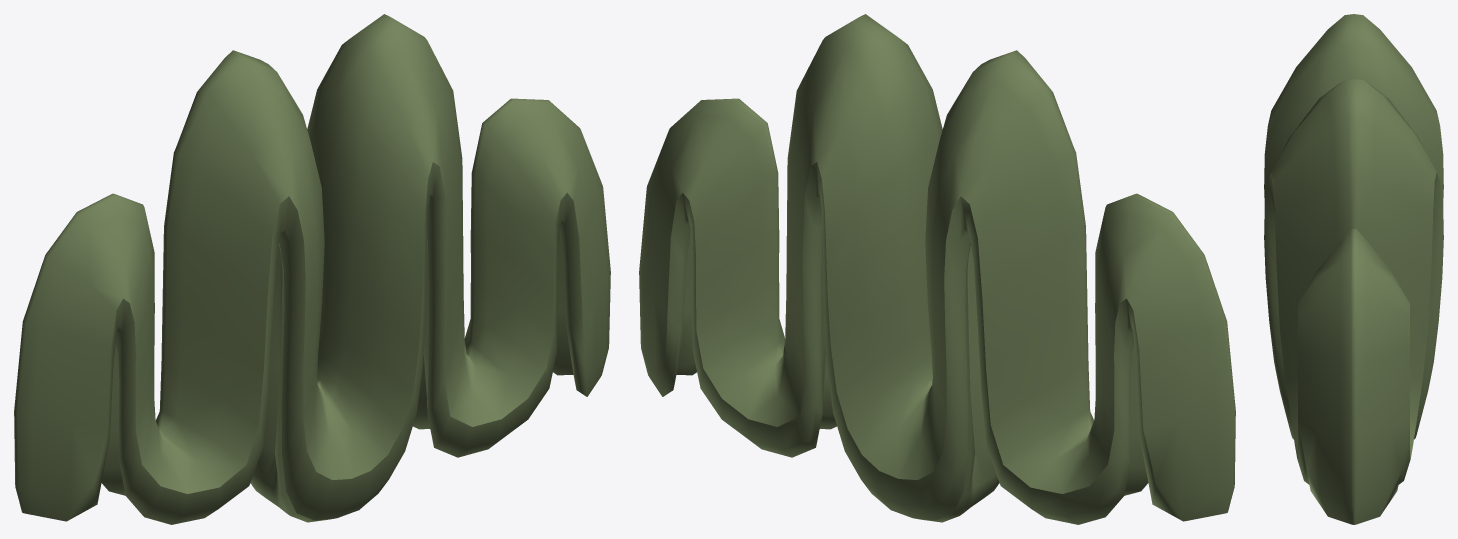
The model's file is bush_1.glb.
3 renders of one model, left to right at view 1: azimuth 30°, elevation 25°; view 2: azimuth 150°, elevation 25°; view 3: azimuth 270°, elevation 25°, orthographic. The views are drawn at different scales.
Parts seen in each view (by area): view 1: Bush_1; view 2: Bush_1; view 3: Bush_1.
Part boxes in pixels (<box>): Bush_1: <box>14,14,610,524</box>; Bush_1: <box>639,14,1235,524</box>; Bush_1: <box>1264,14,1443,524</box>.
Size of the model in its own units: 3.26 by 2.48 by 0.9793.
Materials: 1 (1 with a texture image).
